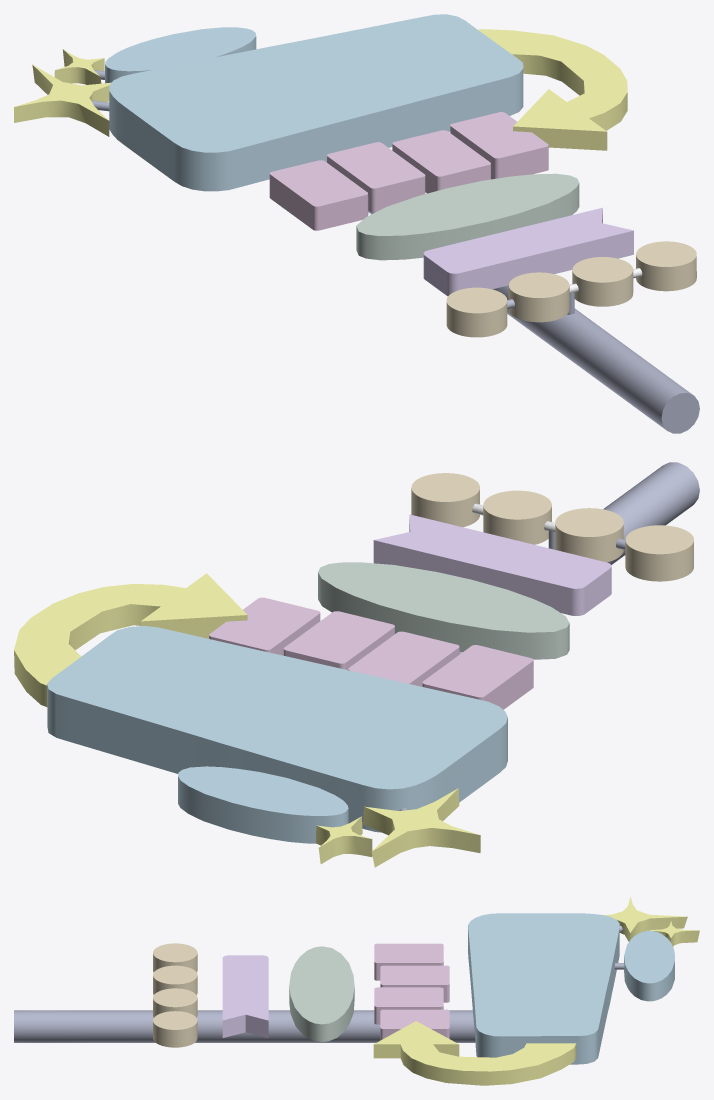
File: aSalazar_motel.glb
3 renders of one model, top to bottom at view 1: azimuth 30°, elevation 25°; view 2: azimuth 150°, elevation 25°; view 3: azimuth 270°, elevation 25°, orthographic. The views are drawn at different scales.
Parts seen in each view (by area): view 1: OUTPUT; view 2: OUTPUT; view 3: OUTPUT.
Part boxes in pixels (left/top/right/bottom): OUTPUT: left=14, top=14, right=699, bottom=433; OUTPUT: left=14, top=462, right=699, bottom=867; OUTPUT: left=14, top=897, right=699, bottom=1085.
Size of the model in its own units: 0.6433 by 0.1117 by 1.05.
